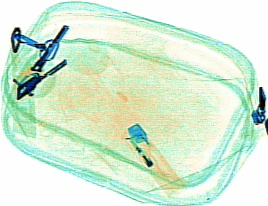lighter: (121, 123, 184, 197)
